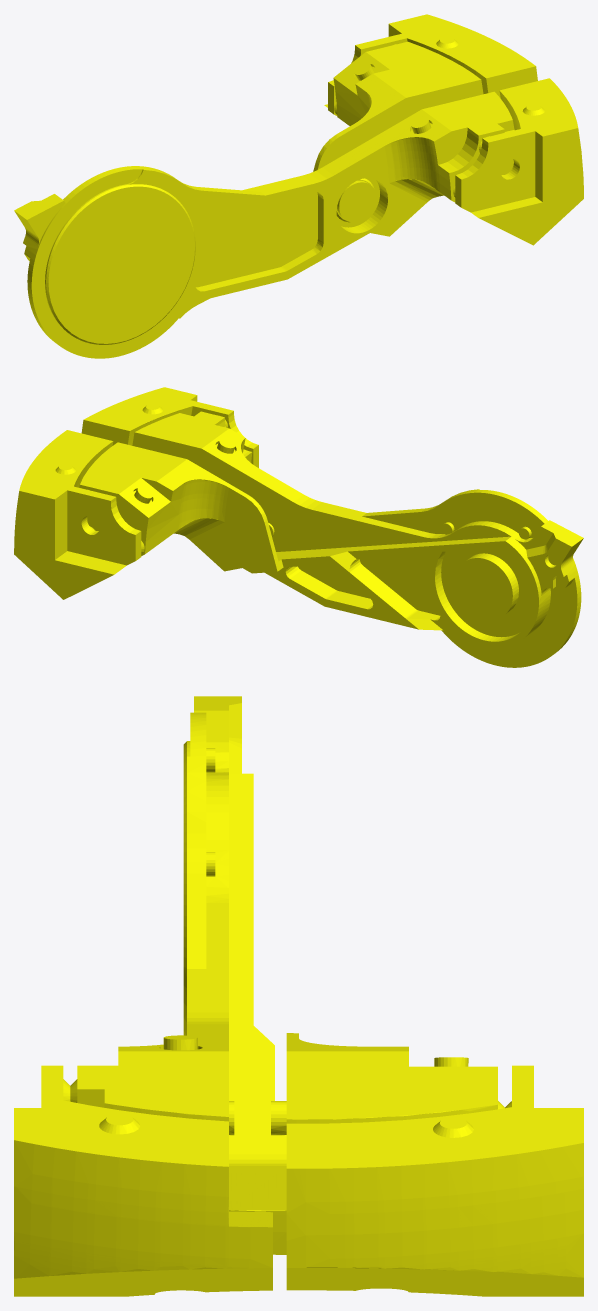
3 views of the same model, one above another, from view 1: azimuth 30°, elevation 25°; view 2: azimuth 150°, elevation 25°; view 3: azimuth 270°, elevation 25° (orthographic). The views are drawn at different scales.
Visible parts, largest first — view 1: node; view 2: node; view 3: node.
Part boxes in pixels (left/top/right/bottom): node: left=14, top=14, right=583, bottom=358; node: left=14, top=387, right=583, bottom=667; node: left=14, top=696, right=583, bottom=1296.
Size of the model in its own units: 1675 by 548 by 830.
